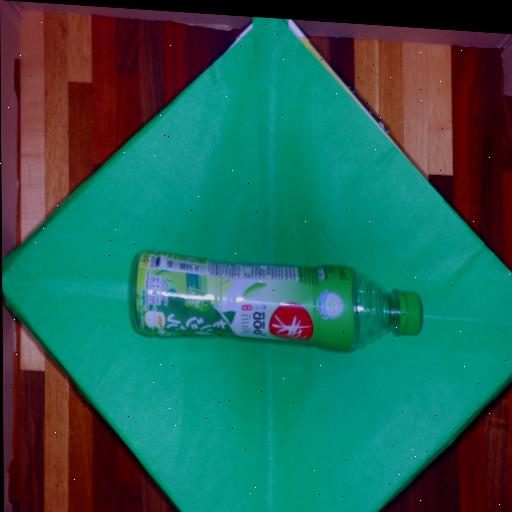bottle: (132, 252, 421, 350)
